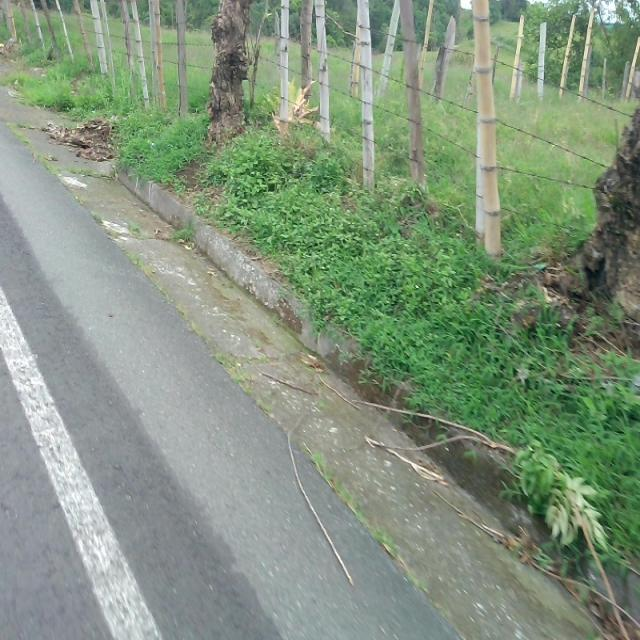DITCH: (2, 79, 637, 638)
